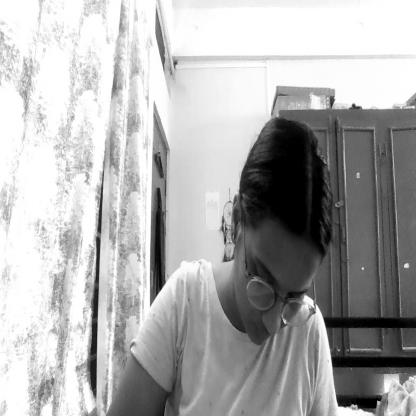Distracted: (231, 118, 336, 349)
